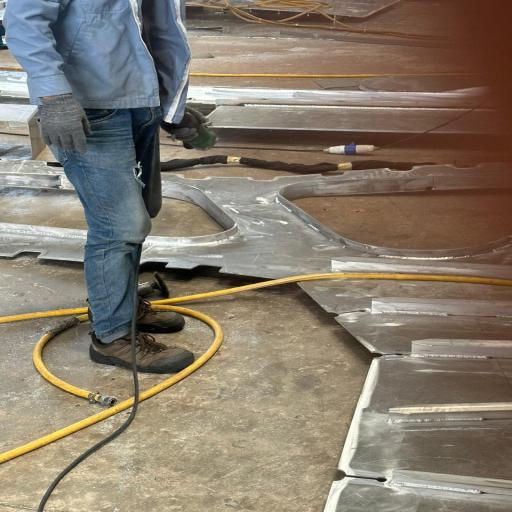safety_shoe: (83, 334, 198, 377), (134, 302, 188, 337)
